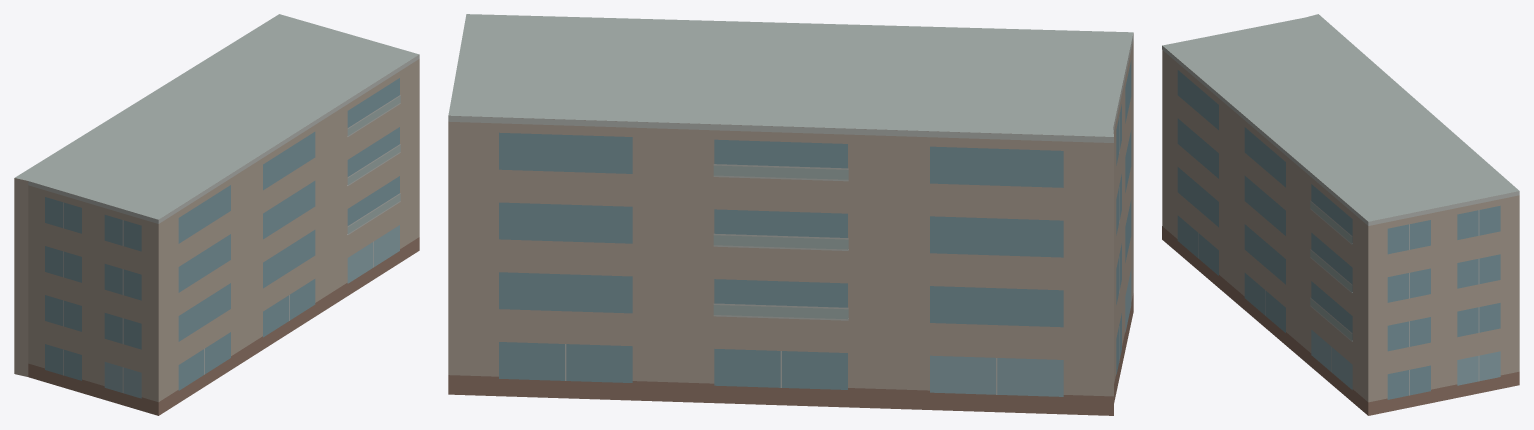
Rendered from survey-upis-32830624.glb.
The picture shows the model from 3 angles, left to right: view 1: azimuth 30°, elevation 25°; view 2: azimuth 150°, elevation 25°; view 3: azimuth 270°, elevation 25°; orthographic projection. The views are drawn at different scales.
Visible parts, largest first — view 1: survey-upis-32830624.tmp; view 2: survey-upis-32830624.tmp; view 3: survey-upis-32830624.tmp.
Part boxes in pixels (<box>): survey-upis-32830624.tmp: <box>14,14,419,415</box>; survey-upis-32830624.tmp: <box>448,14,1133,415</box>; survey-upis-32830624.tmp: <box>1162,14,1519,415</box>.
Bounding box in the file's own units: 25.73 × 11.2 × 18.71.
